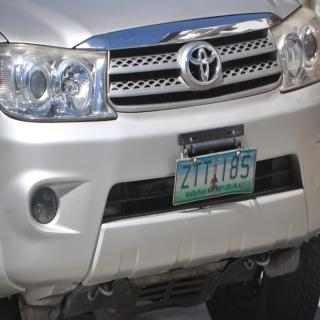license: (174, 149, 258, 206)
